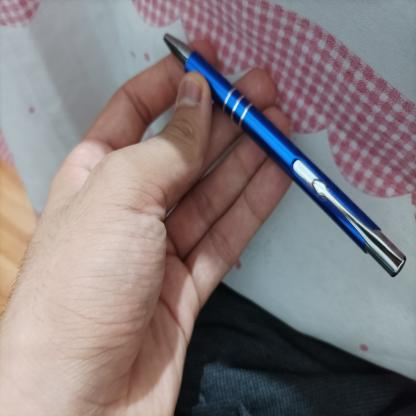pencil: (167, 42, 407, 282)
